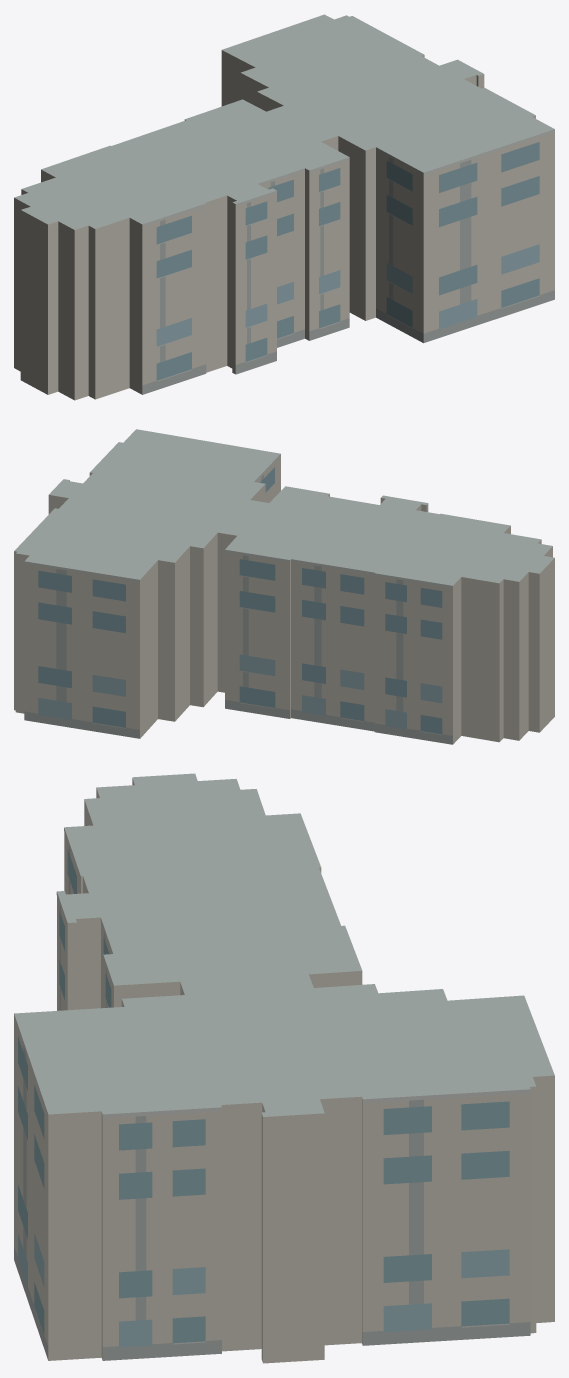
File: survey-upis-32618842.glb
3 renders of one model, top to bottom at view 1: azimuth 30°, elevation 25°; view 2: azimuth 150°, elevation 25°; view 3: azimuth 270°, elevation 25°, orthographic. The views are drawn at different scales.
Visible parts, largest first — view 1: survey-upis-32618842.tmp; view 2: survey-upis-32618842.tmp; view 3: survey-upis-32618842.tmp.
Boxes of the visible parts, <box> form: survey-upis-32618842.tmp: <box>14,14,554,400</box>; survey-upis-32618842.tmp: <box>14,429,554,744</box>; survey-upis-32618842.tmp: <box>14,773,554,1363</box>.
Bounding box in the file's own units: 45.6 × 15.25 × 30.34.
